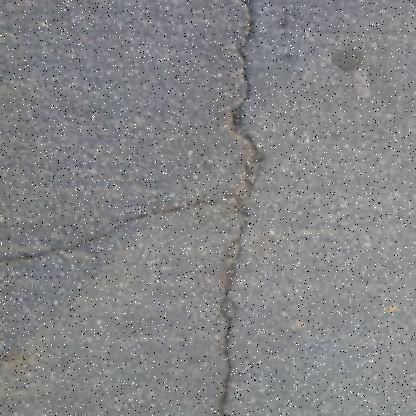Cracks: (204, 0, 278, 415), (0, 188, 265, 269)
